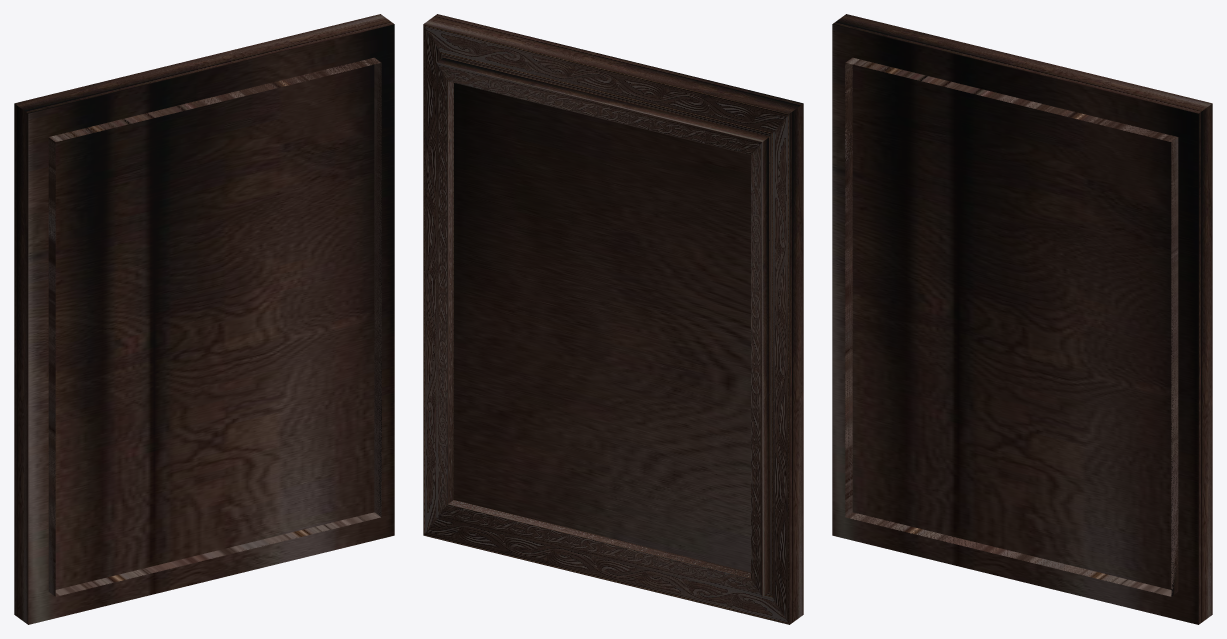
The model's file is cuadro.fbx.
3 views of the same model, side by side, from view 1: azimuth 30°, elevation 25°; view 2: azimuth 150°, elevation 25°; view 3: azimuth 330°, elevation 25° (orthographic).
Parts seen in each view (by area): view 1: Cube; view 2: Cube; view 3: Cube.
Boxes of the visible parts, x1,y1,x2,y2 form: Cube: (14, 14, 394, 624); Cube: (423, 14, 803, 624); Cube: (832, 14, 1212, 624).
Size of the model in its own units: 150 by 200 by 20.
